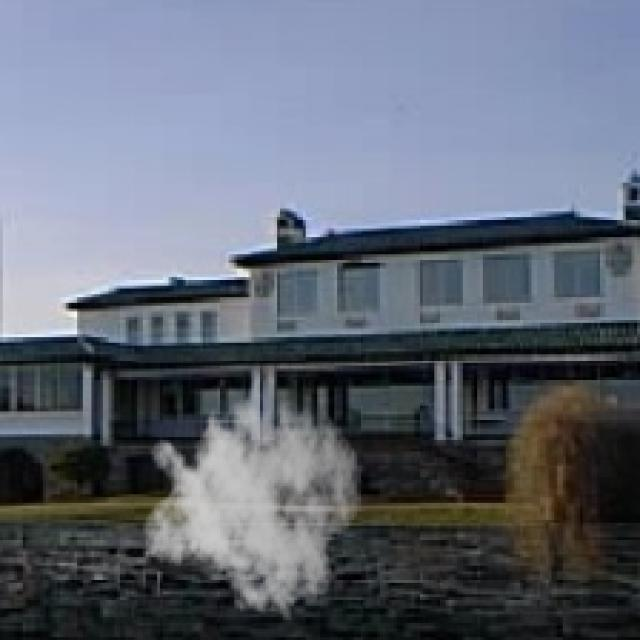Smoke: (143, 368, 363, 623)
